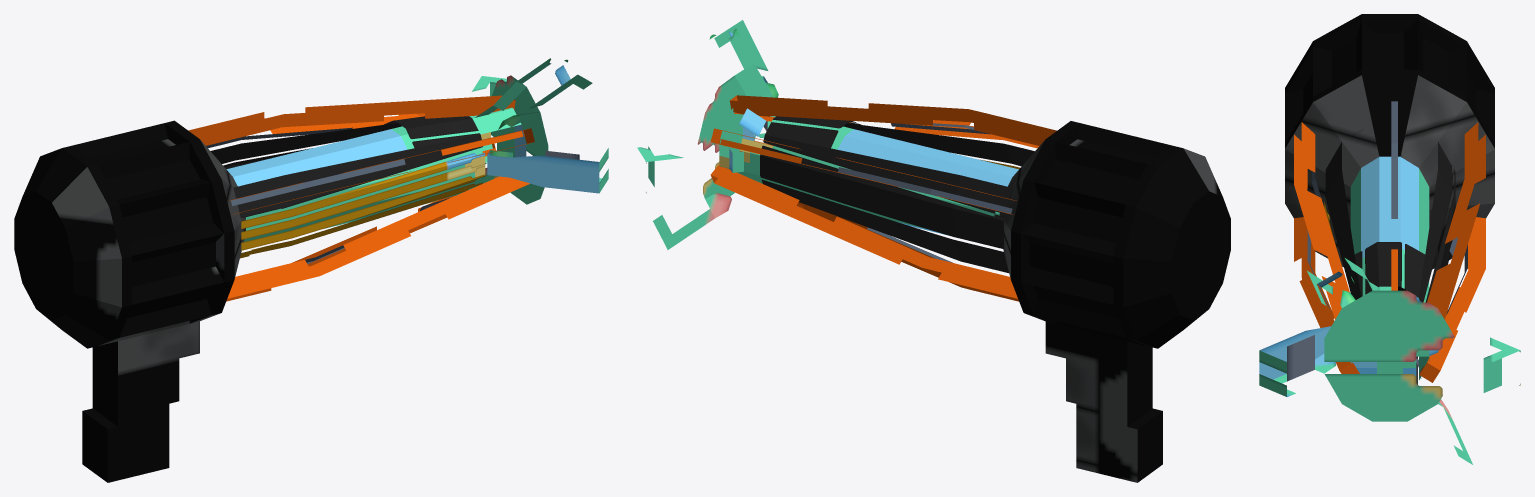
File: SpaceGun.fbx
The picture shows the model from 3 angles, left to right: view 1: azimuth 30°, elevation 25°; view 2: azimuth 150°, elevation 25°; view 3: azimuth 270°, elevation 25°; orthographic projection. The views are drawn at different scales.
Parts seen in each view (by area): view 1: cylinder_3, cylinder, cylinder_1, cylinder_2, mesh_4, mesh_1, mesh_5, mesh, mesh_3; view 2: cylinder_3, cylinder, cylinder_1, cylinder_2, mesh_2, mesh_1, mesh, mesh_5, mesh_3; view 3: cylinder_3, cylinder_2, cylinder, cylinder_1, mesh, mesh_5, mesh_2, mesh_4, mesh_1.
Boxes of the visible parts, <box> form: cylinder_3: <box>14,120,245,482</box>; cylinder: <box>210,116,485,258</box>; cylinder_1: <box>226,107,526,241</box>; cylinder_2: <box>472,58,608,204</box>; mesh_4: <box>227,176,529,298</box>; mesh_1: <box>188,95,515,145</box>; mesh_5: <box>229,128,534,214</box>; mesh: <box>206,113,424,148</box>; mesh_3: <box>226,196,454,301</box>; cylinder_3: <box>999,121,1230,482</box>; cylinder: <box>760,116,1034,272</box>; cylinder_1: <box>719,108,1018,235</box>; cylinder_2: <box>637,20,778,249</box>; mesh_2: <box>710,165,1017,298</box>; mesh_1: <box>729,95,1056,145</box>; mesh: <box>710,128,1016,214</box>; mesh_5: <box>758,115,1039,148</box>; mesh_3: <box>798,202,1018,301</box>; cylinder_3: <box>1285,14,1494,384</box>; cylinder_2: <box>1259,257,1520,464</box>; cylinder: <box>1324,129,1455,302</box>; cylinder_1: <box>1350,156,1429,380</box>; mesh: <box>1427,122,1485,319</box>; mesh_5: <box>1294,122,1349,319</box>; mesh_2: <box>1419,217,1485,382</box>; mesh_4: <box>1294,217,1359,373</box>; mesh_1: <box>1391,101,1397,290</box>.
Size of the model in its own units: 317 by 195 by 124.
